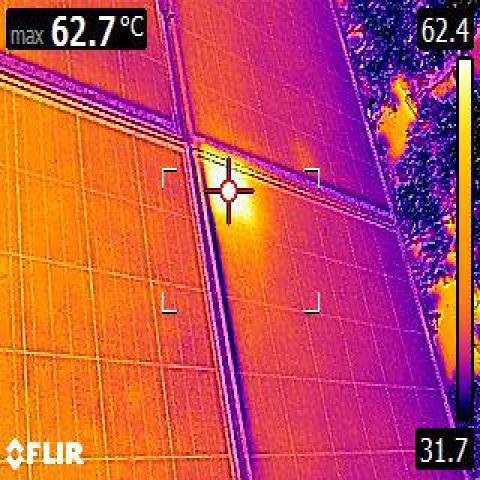fault: (206, 160, 224, 186), (236, 197, 254, 221)
